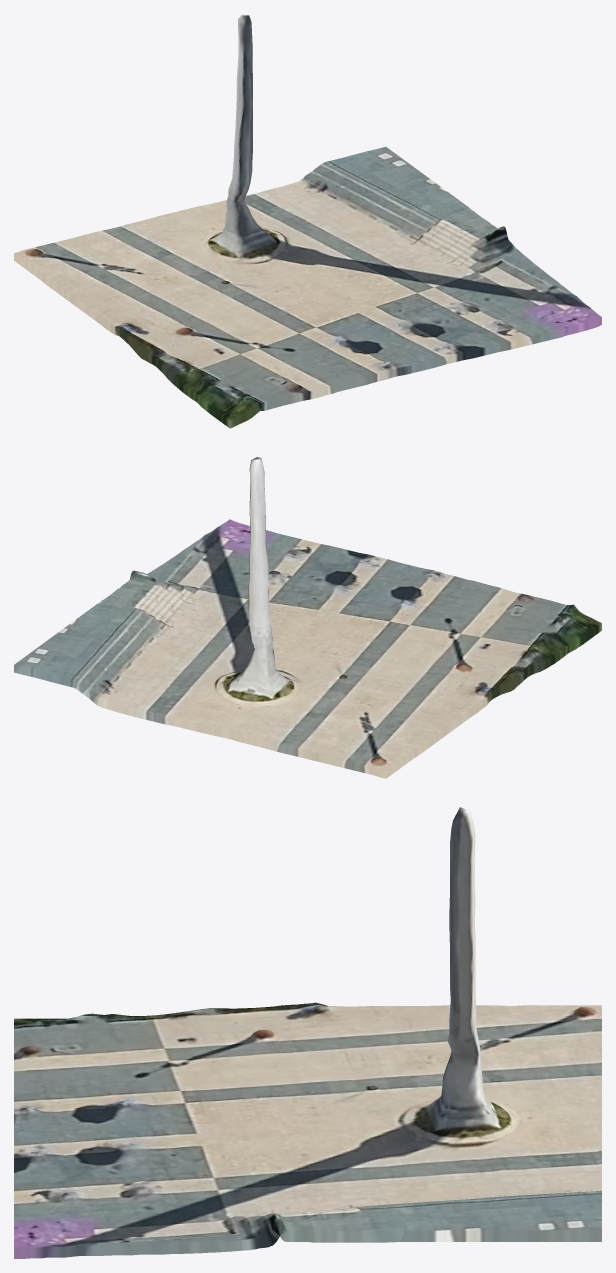
Rendered from z20-167750-405248-h0-yup-uvflip-v3-world.glb.
The picture shows the model from 3 angles, top to bottom: view 1: azimuth 30°, elevation 25°; view 2: azimuth 150°, elevation 25°; view 3: azimuth 270°, elevation 25°; orthographic projection. The views are drawn at different scales.
Size of the model in its own units: 30.16 by 19.32 by 30.32.
Materials: 1 (1 with a texture image).
